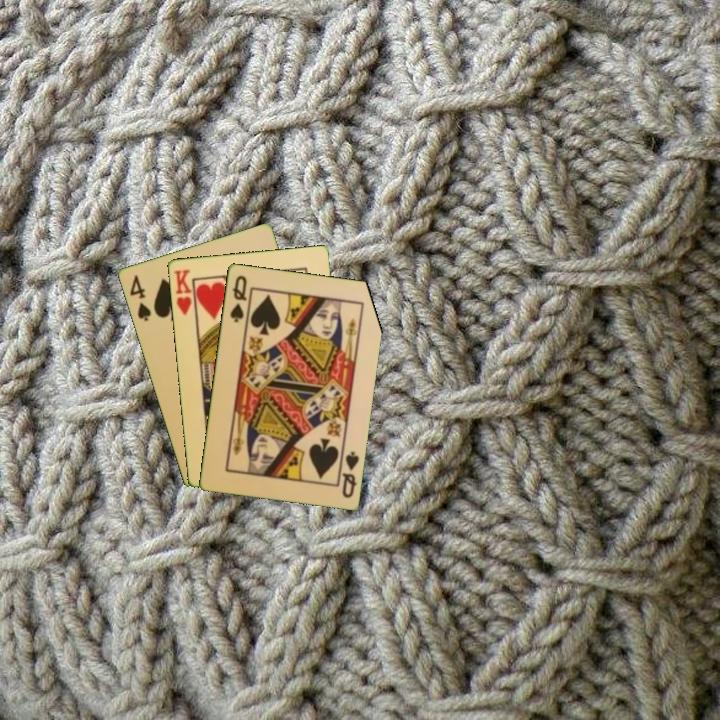4s: (126, 271, 154, 324)
Kh: (170, 266, 198, 320)
Qs: (226, 272, 250, 325), (338, 447, 361, 501)
